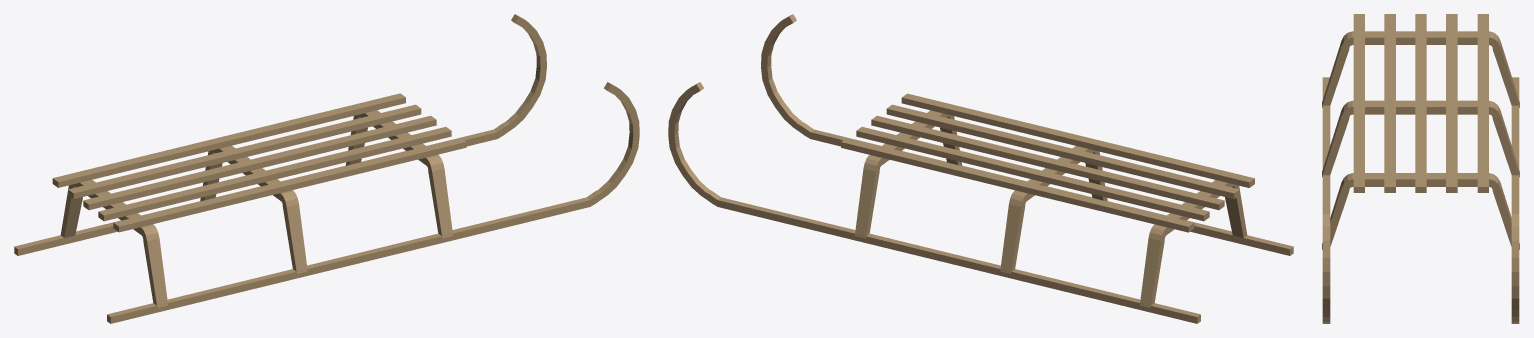
The model's file is sanki.glb.
3 views of the same model, side by side, from view 1: azimuth 30°, elevation 25°; view 2: azimuth 150°, elevation 25°; view 3: azimuth 270°, elevation 25° (orthographic).
Visible parts, largest first — view 1: Cube; view 2: Cube; view 3: Cube.
Boxes of the visible parts, box(x1,y1,x2,y2) form: Cube: box(14, 14, 639, 323); Cube: box(668, 14, 1293, 323); Cube: box(1322, 14, 1519, 323).
Bounding box in the file's own units: 1.49 × 0.3153 × 0.4734.
